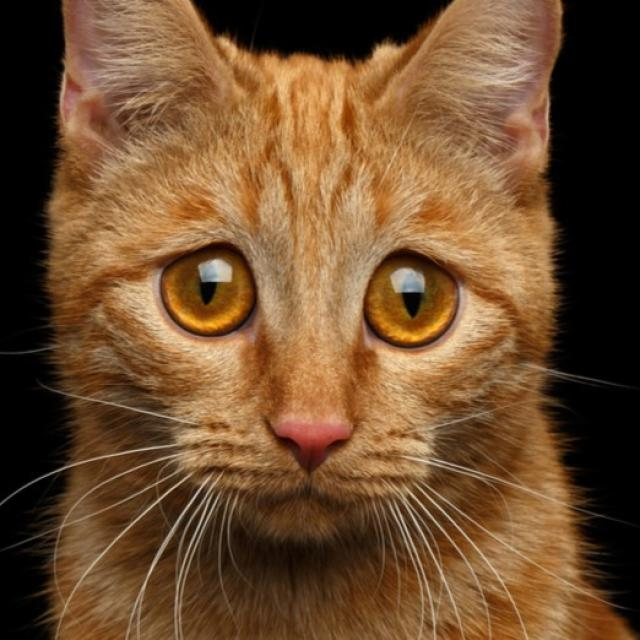Sad: (93, 197, 511, 573)
